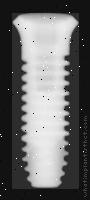BioHorizons: (6, 12, 79, 190)
